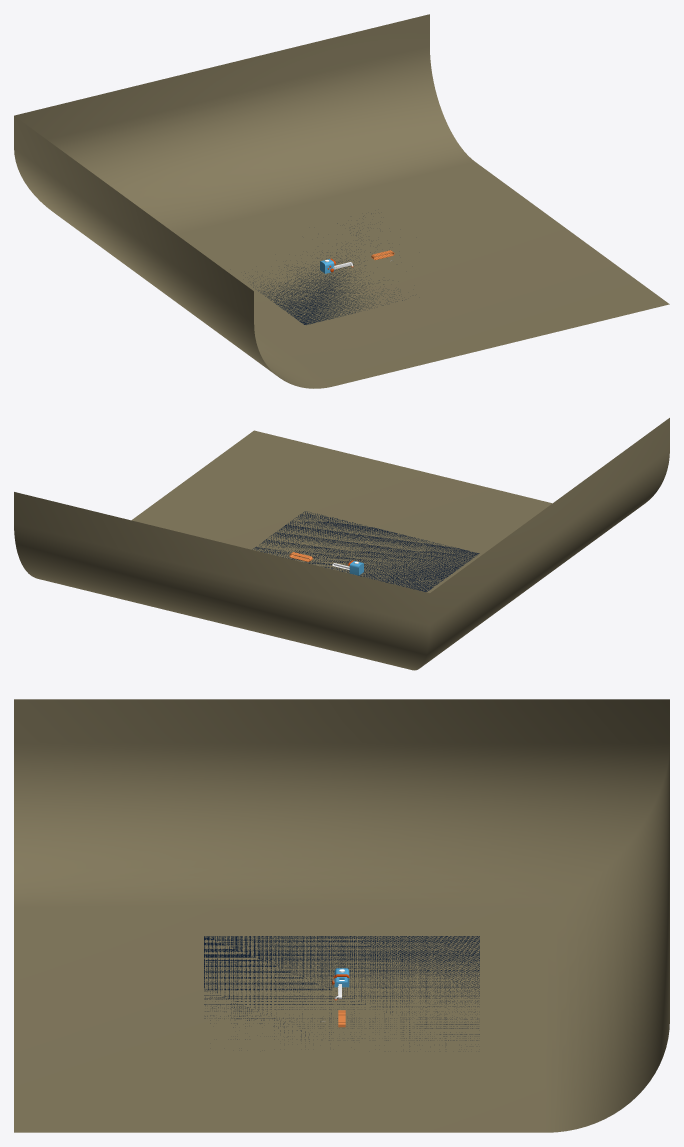
The model's file is conveyorbelt.gltf.
3 renders of one model, top to bottom at view 1: azimuth 30°, elevation 25°; view 2: azimuth 150°, elevation 25°; view 3: azimuth 270°, elevation 25°, orthographic. The views are drawn at different scales.
Parts seen in each view (by area): view 1: Plane.003, Plane.004; view 2: Plane.003, Plane.004; view 3: Plane.003, Plane.004.
Part boxes in pixels (x1=…): Plane.003: x1=14, y1=14, x2=669, y2=388; Plane.004: x1=245, y1=213, x2=402, y2=324; Plane.003: x1=14, y1=418, x2=669, y2=670; Plane.004: x1=252, y1=511, x2=479, y2=591; Plane.003: x1=14, y1=699, x2=669, y2=1132; Plane.004: x1=204, y1=936, x2=479, y2=1051.
Bounding box in the file's own units: 120 × 32.09 × 120.
